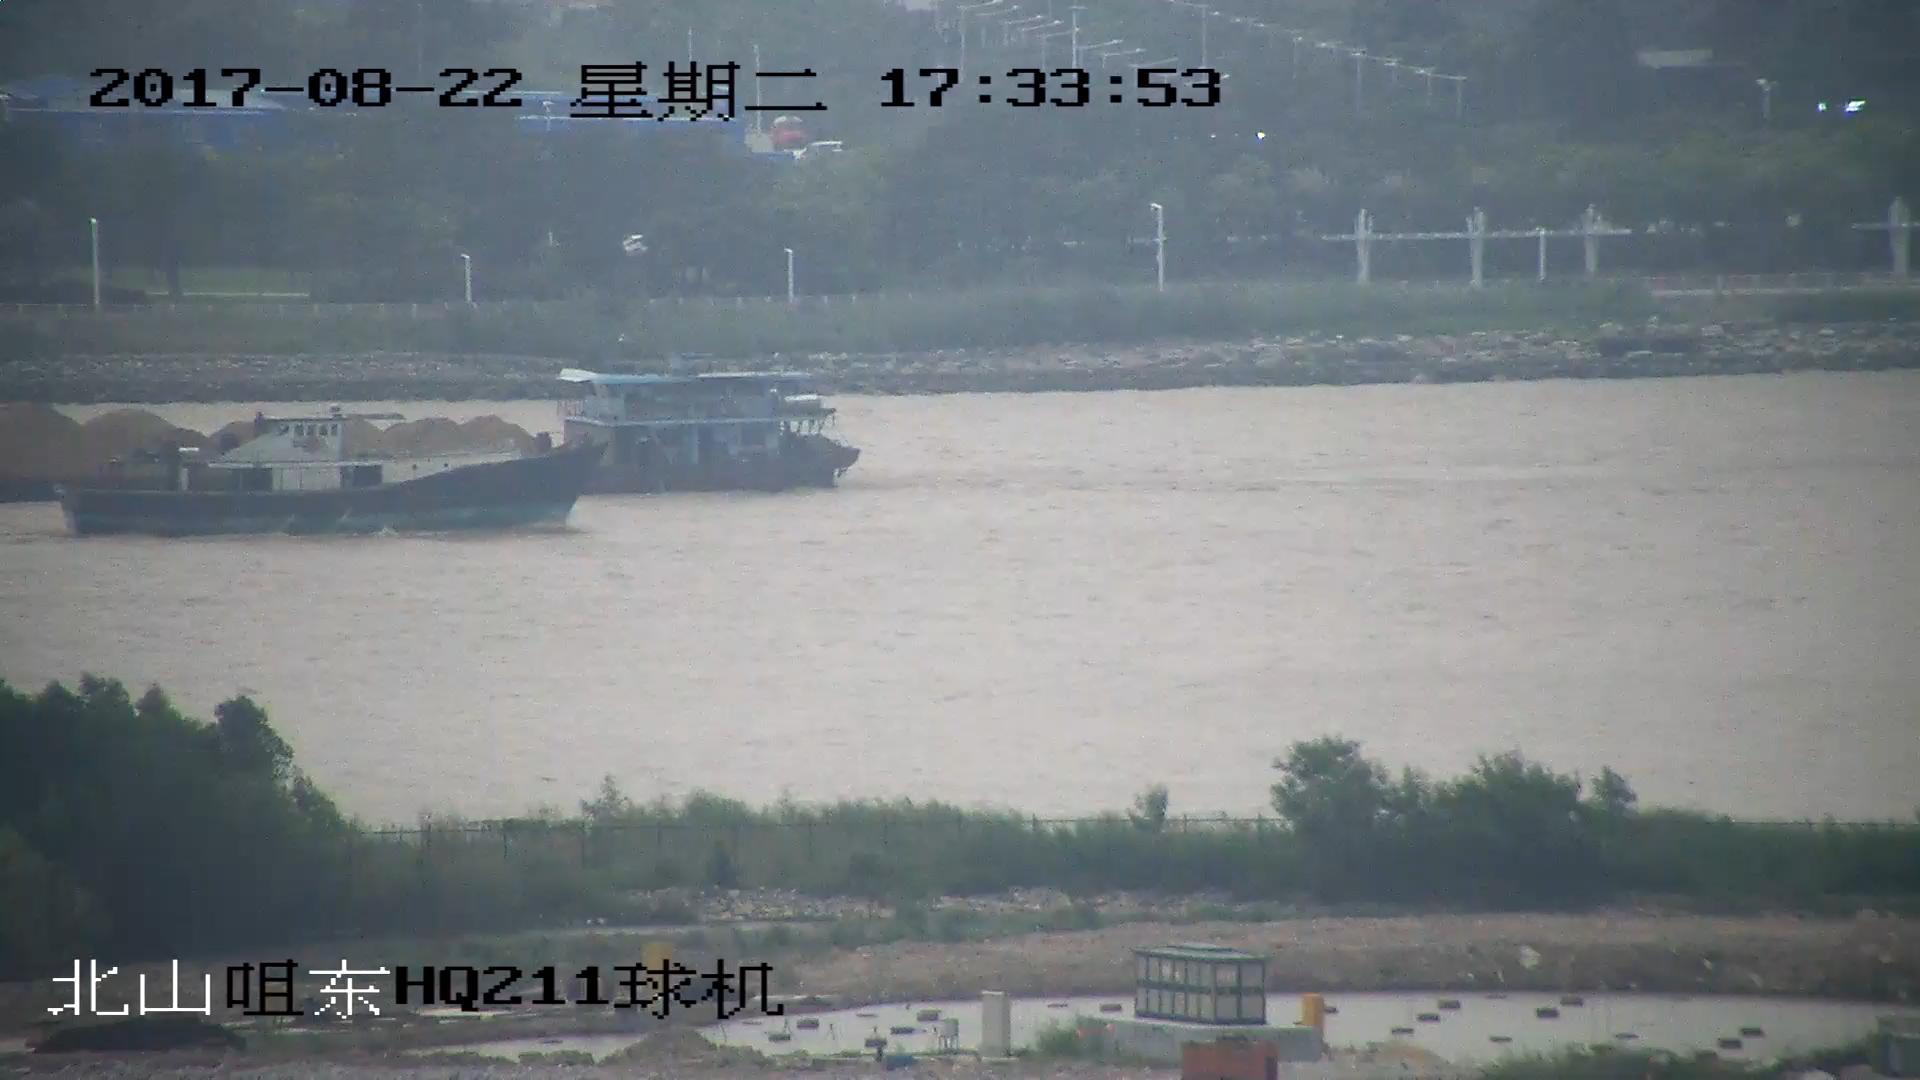Ship: (3, 371, 856, 498), (61, 417, 605, 541)
